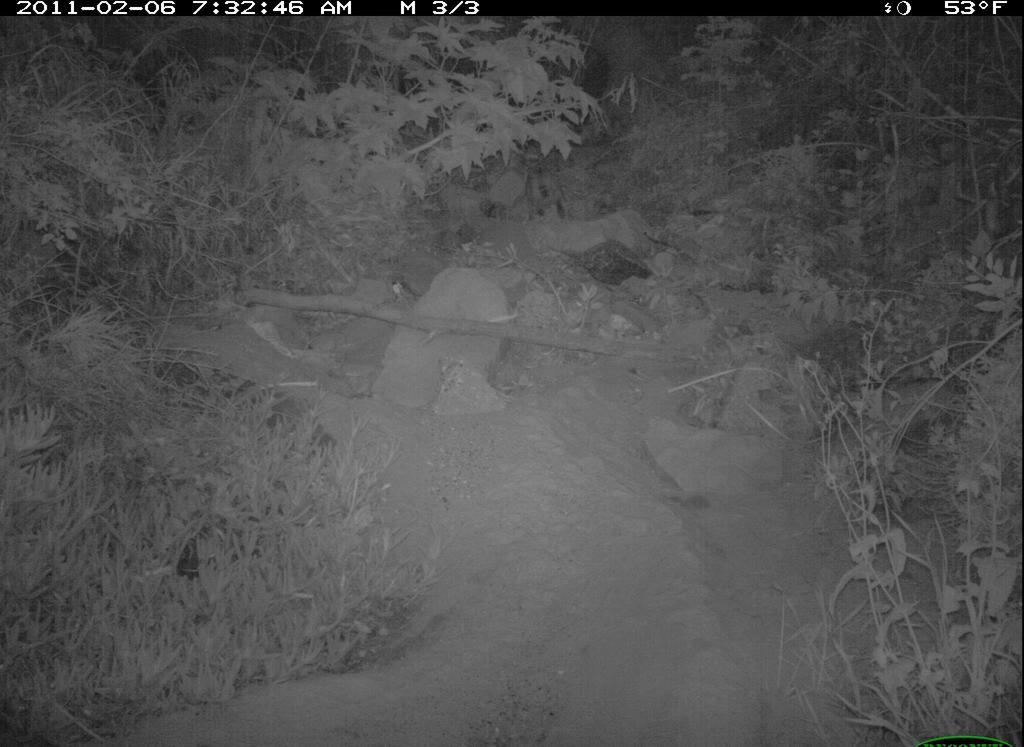bobcat: (523, 157, 574, 226)
